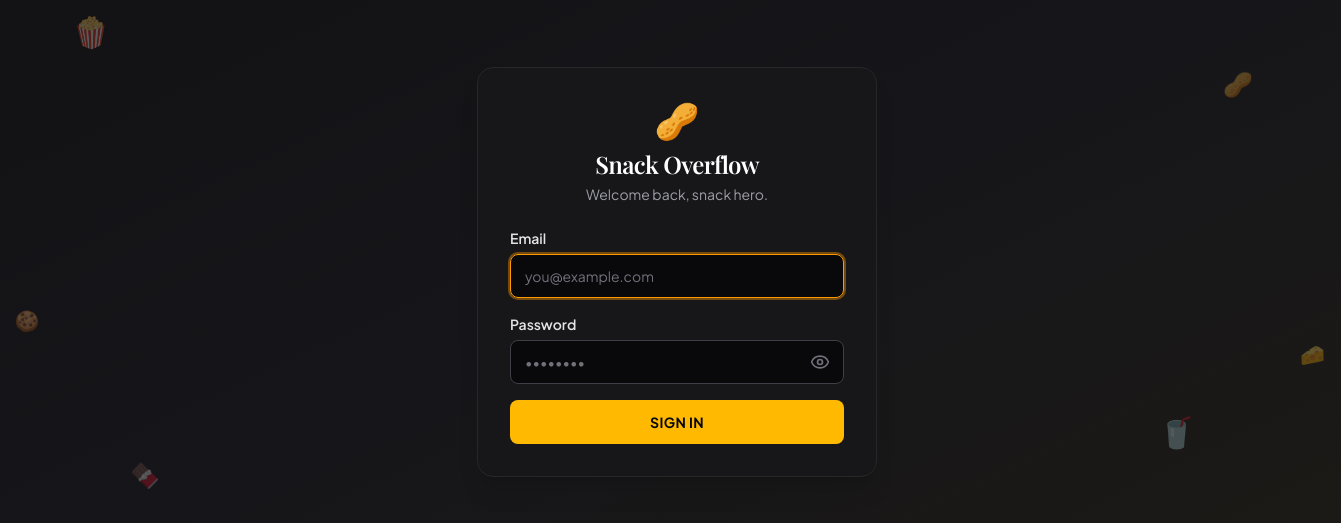
LoginPage › shows the generic message for 401 UNAUTHENTICATED
The width and height of the screenshot is (1341, 523).
Type "member@bpf.com" into the field labelled "Email".
click(677, 276); type("member@bpf.com")  # box [510,254,844,298]
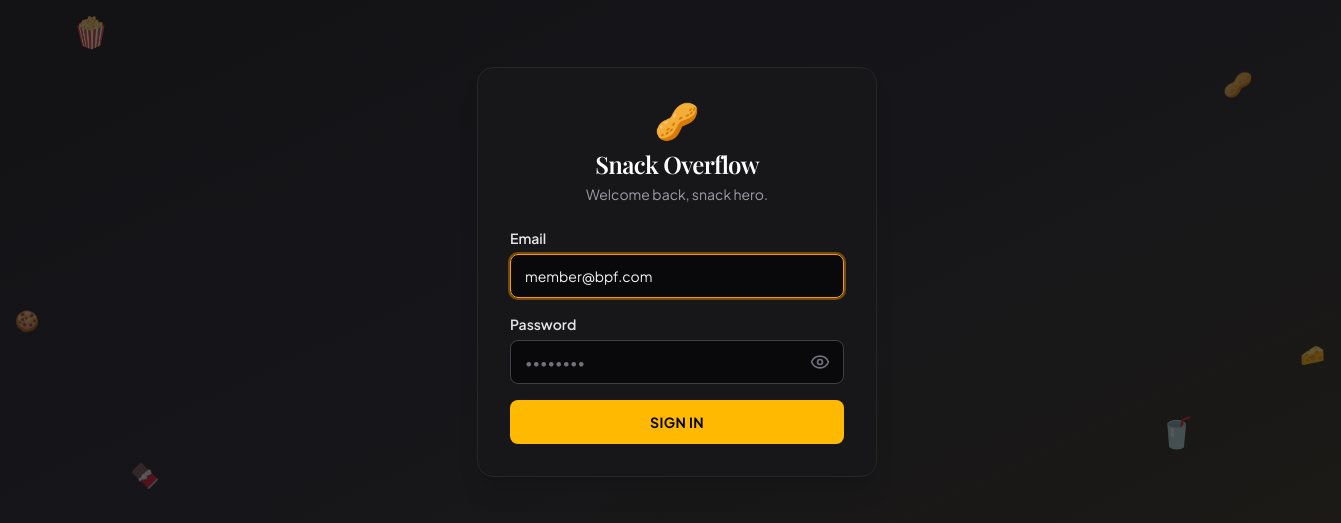
Type "Member@123" into the password field labelled "Password".
click(677, 362); type("Member@123")  # box [510,340,844,384]
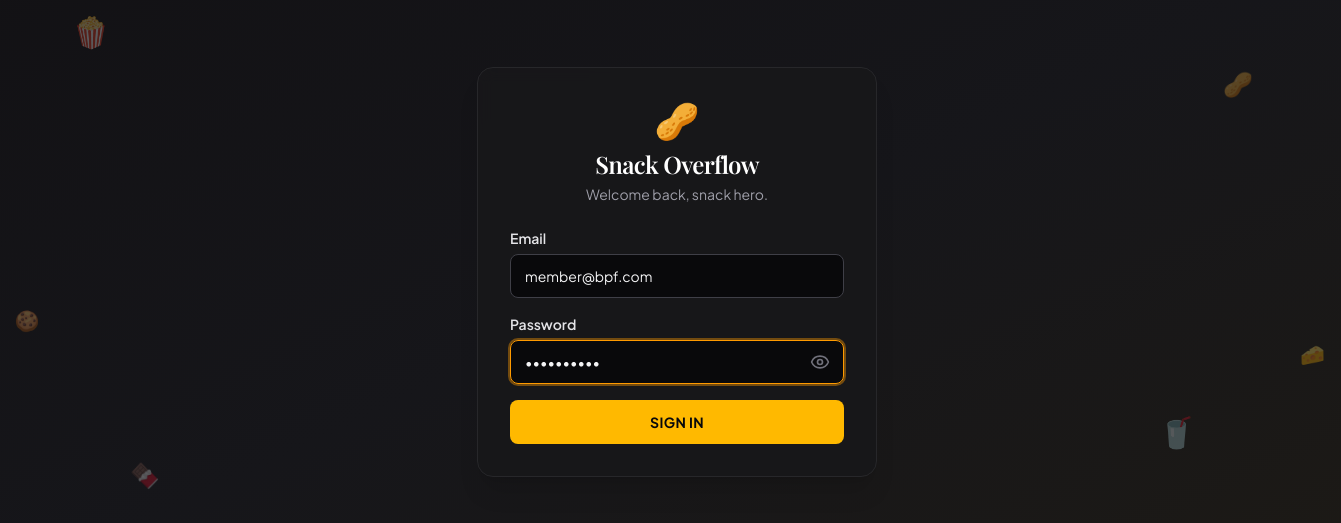
Click the button "Sign in".
click(677, 422)  # box [510,400,844,444]
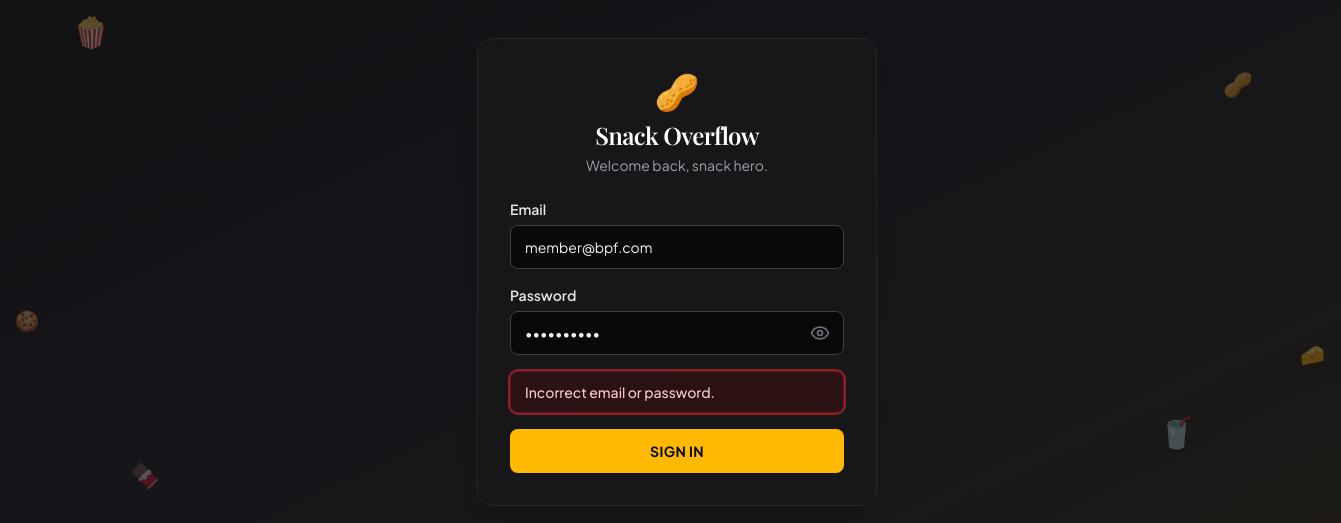
expect the message reads "Incorrect email or password.": met, box [525,383,715,401]
